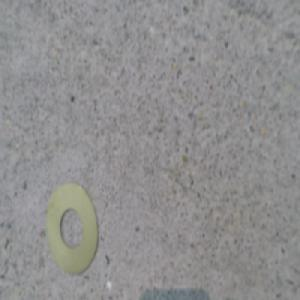Washer: (46, 184, 98, 273)
